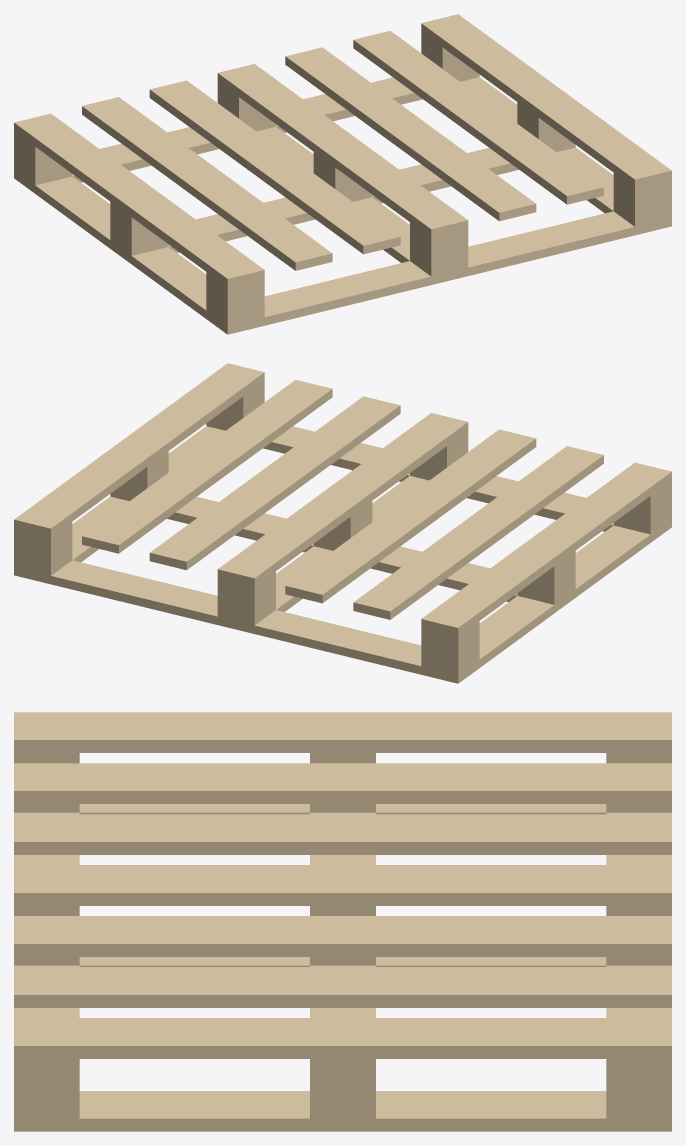
The model's file is palete.glb.
3 renders of one model, top to bottom at view 1: azimuth 30°, elevation 25°; view 2: azimuth 150°, elevation 25°; view 3: azimuth 270°, elevation 25°, orthographic. The views are drawn at different scales.
Parts seen in each view (by area): view 1: corpo; view 2: corpo; view 3: corpo.
Boxes of the visible parts, <box> form: corpo: <box>14,14,671,334</box>; corpo: <box>14,363,671,683</box>; corpo: <box>14,712,671,1131</box>.
Bounding box in the file's own units: 1.2 × 0.144 × 1.
